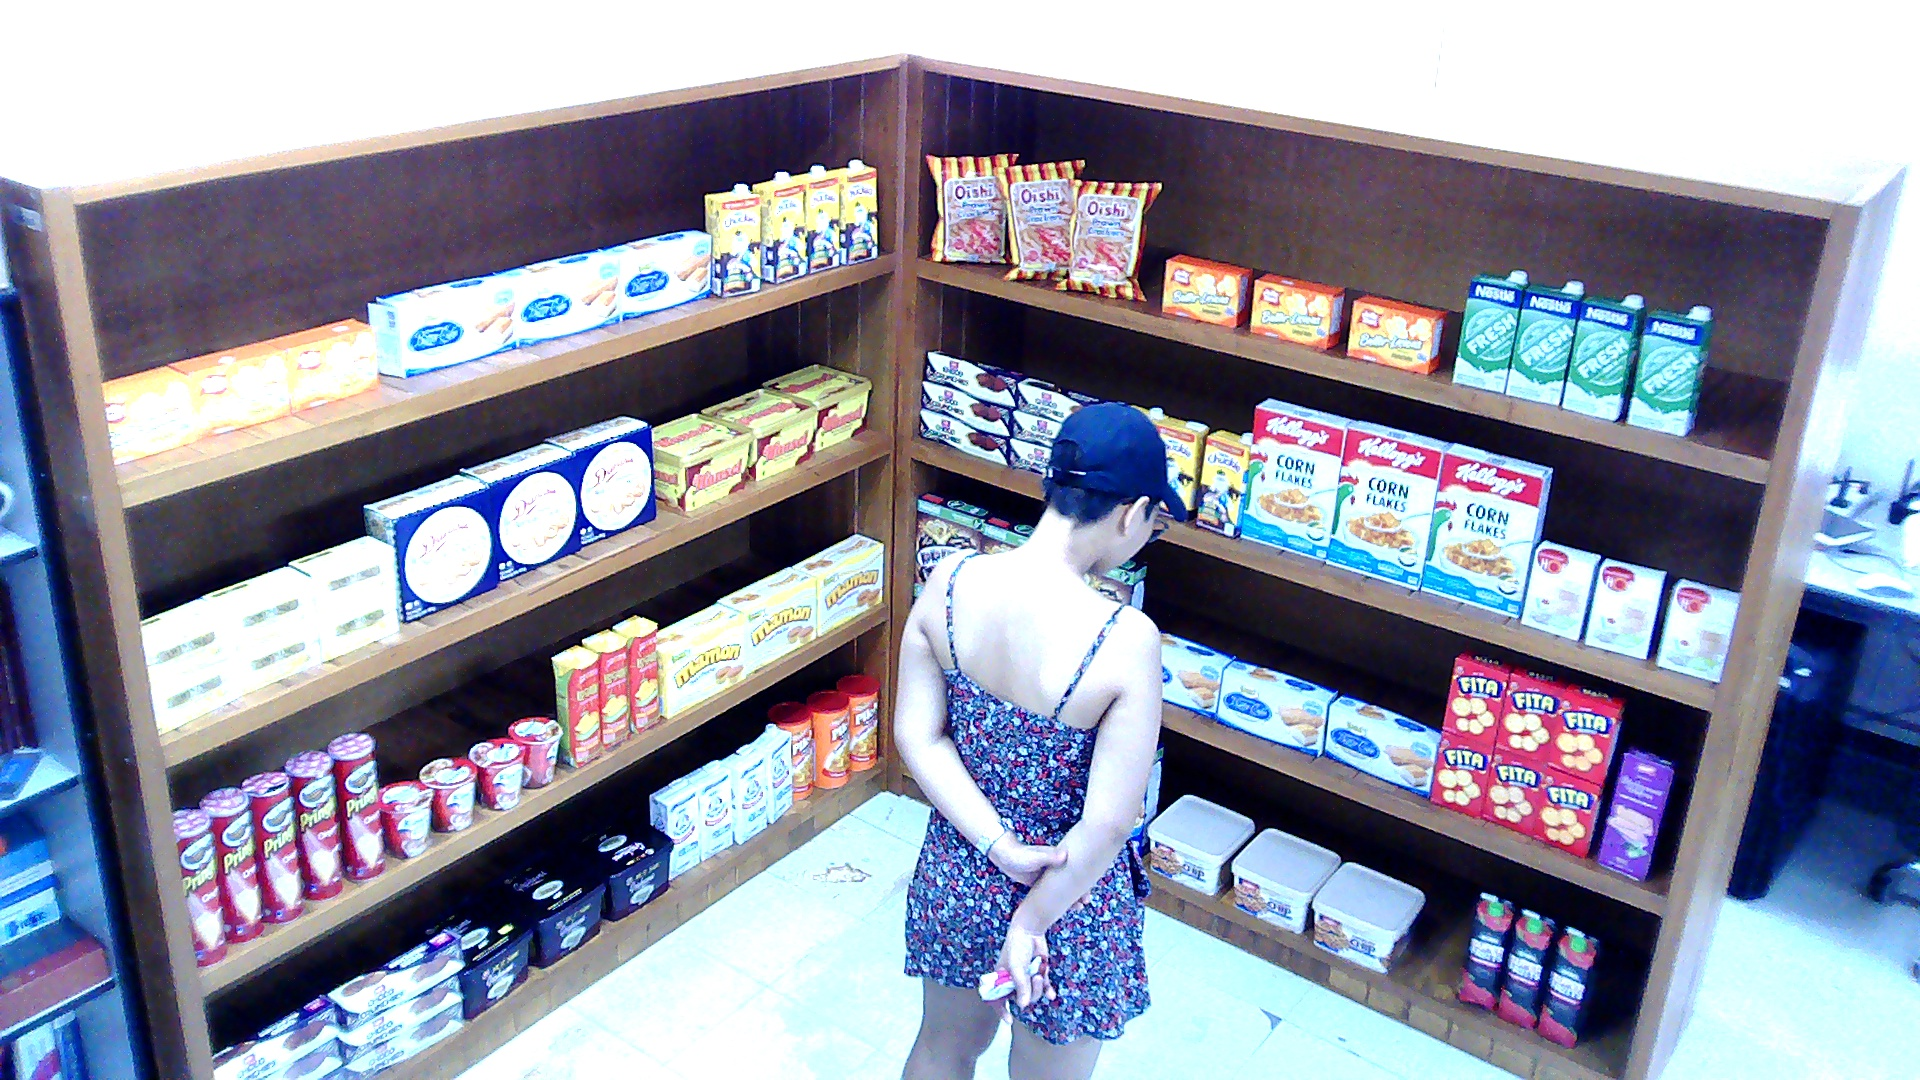Bear brand: (681, 758, 732, 861), (647, 778, 698, 879), (720, 742, 765, 845), (749, 722, 788, 823)
Buttercake: (366, 274, 516, 377), (485, 247, 620, 346), (1215, 657, 1338, 756), (1322, 691, 1439, 797), (602, 227, 707, 317), (1158, 628, 1236, 718)
Butterlicious: (168, 339, 288, 436), (267, 317, 378, 414), (101, 364, 200, 465), (1344, 294, 1446, 373), (1248, 272, 1344, 348), (1161, 254, 1251, 326)
Camomille: (204, 565, 324, 641), (150, 646, 246, 734), (240, 609, 333, 692), (288, 535, 393, 605), (138, 596, 234, 672), (326, 581, 395, 657)
Choco Crunchies: (321, 927, 465, 1035), (336, 972, 462, 1064), (209, 992, 332, 1078), (341, 996, 464, 1075), (920, 346, 1025, 405), (921, 380, 1011, 434), (918, 410, 1008, 464), (1017, 375, 1116, 422), (264, 1034, 342, 1077), (1011, 407, 1062, 445), (1008, 437, 1050, 475)
Chocolate Chips: (1311, 859, 1425, 972), (1229, 828, 1340, 936), (1146, 792, 1254, 895)
Chuckie: (702, 182, 759, 297), (1194, 428, 1251, 538), (750, 170, 804, 283), (1155, 414, 1209, 520), (792, 161, 837, 274), (828, 157, 876, 263)
Danisa: (363, 472, 498, 623), (462, 443, 579, 583), (543, 413, 654, 548)
Fita: (1547, 681, 1622, 782), (1493, 666, 1568, 765), (1439, 647, 1514, 744), (1533, 767, 1605, 857), (1481, 747, 1544, 837), (1427, 729, 1490, 819)
Fresh Milk: (1626, 304, 1710, 434), (1560, 295, 1641, 421), (1503, 279, 1581, 405), (1449, 270, 1527, 392)
Grahams: (476, 848, 605, 967), (419, 893, 530, 1017), (552, 810, 669, 920)
Hansel: (699, 387, 810, 479), (651, 411, 747, 510), (762, 362, 867, 450)
Head: (999, 377, 1209, 598)
Kellogg Corn Flakes: (1419, 443, 1551, 619), (1322, 418, 1451, 589), (1239, 396, 1353, 560), (321, 1064, 345, 1075)
Kimchi Noodles: (417, 756, 477, 830), (378, 778, 432, 857), (507, 716, 561, 790), (468, 738, 522, 810)
Koko Krunch: (912, 490, 993, 603), (1083, 556, 1146, 610), (981, 513, 1035, 553)
Locally Mango: (549, 643, 603, 767), (582, 627, 630, 749), (609, 614, 660, 733)
Mamon: (717, 565, 816, 675), (660, 600, 744, 719), (792, 531, 882, 637)
Oishi Prawn: (1053, 180, 1161, 299), (990, 159, 1083, 278), (924, 153, 1017, 261)
Pik-nik: (768, 701, 813, 800), (804, 690, 849, 789), (837, 675, 876, 769)
Pringles: (201, 787, 264, 942), (239, 769, 302, 920), (171, 805, 225, 967), (284, 749, 341, 900), (324, 734, 384, 880)
Super Fruits: (1493, 906, 1556, 1028), (1535, 924, 1598, 1043), (1458, 891, 1515, 1010)
Wafer: (1596, 744, 1680, 881)
iHop: (1653, 578, 1740, 681), (1518, 540, 1599, 641), (1584, 558, 1665, 657)
